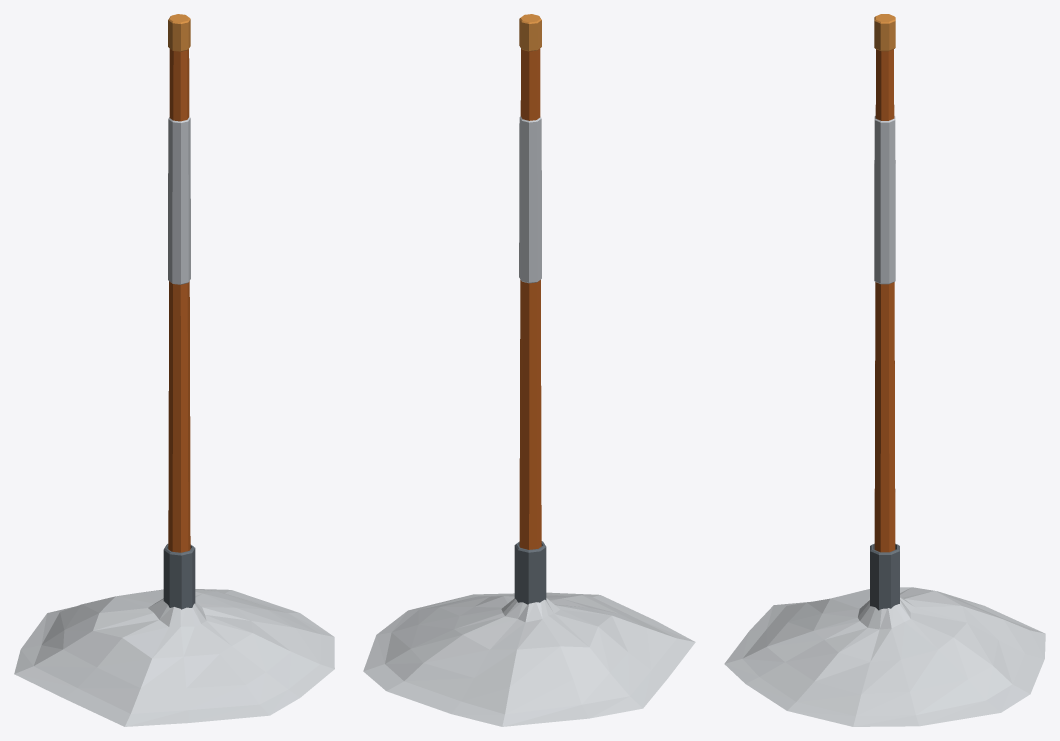
Rendered from piste-marker-pole-7480c3.glb.
3 renders of one model, left to right at view 1: azimuth 30°, elevation 25°; view 2: azimuth 150°, elevation 25°; view 3: azimuth 270°, elevation 25°, orthographic.
Visible parts, largest first — view 1: marker-foot, marker-pole; view 2: marker-foot, marker-pole; view 3: marker-foot, marker-pole.
Part boxes in pixels (x1,y1,x2,y2): marker-foot: (14,544,334,726); marker-pole: (168,14,190,552); marker-foot: (363,541,695,726); marker-pole: (519,14,541,549); marker-foot: (724,543,1045,726); marker-pole: (874,14,895,552).
Size of the model in its own units: 1 by 2.2 by 1.
